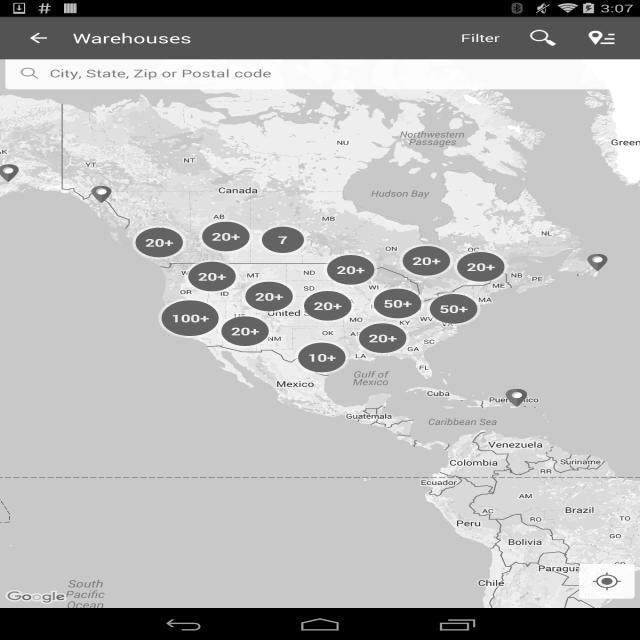Button: (5, 174, 635, 206)
EditText: (6, 27, 584, 42)
ImageButton: (9, 17, 68, 59), (579, 564, 635, 599)
ImageView: (5, 590, 70, 605), (18, 93, 57, 118), (172, 116, 205, 132), (204, 116, 232, 132), (118, 116, 145, 132), (145, 116, 172, 132), (258, 116, 285, 132), (92, 116, 118, 132), (232, 116, 258, 132)
TextView: (91, 63, 272, 87), (91, 140, 276, 154), (72, 29, 192, 47), (448, 22, 513, 54), (512, 22, 572, 54), (572, 22, 631, 54), (91, 101, 209, 115), (91, 154, 176, 169), (91, 87, 182, 101), (10, 118, 64, 131)
